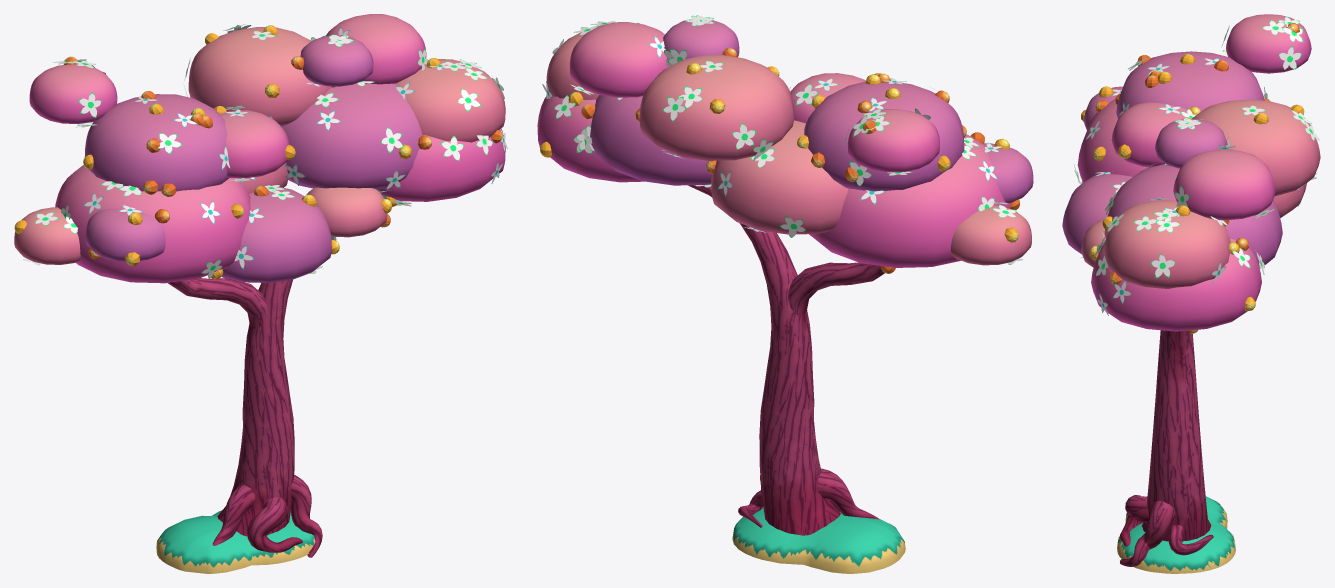
File: WallTreeL.fbx
3 views of the same model, side by side, from view 1: azimuth 30°, elevation 25°; view 2: azimuth 150°, elevation 25°; view 3: azimuth 270°, elevation 25° (orthographic). The views are drawn at different scales.
Parts seen in each view (by area): view 1: walltreeLeft; view 2: walltreeLeft; view 3: walltreeLeft.
Boxes of the visible parts, x1,y1,x2,y2 form: walltreeLeft: (14, 14, 507, 573); walltreeLeft: (537, 15, 1033, 573); walltreeLeft: (1062, 14, 1320, 573).
Bounding box in the file's own units: 18.08 × 17.89 × 8.84.
1 material, 1 textured.
